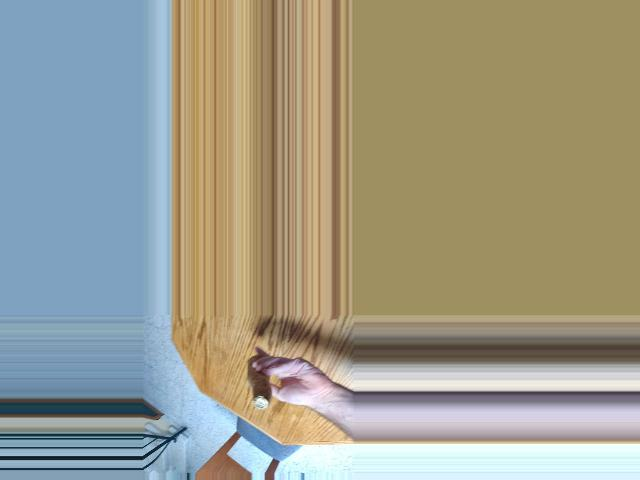sweet_potato: (246, 354, 264, 403)
